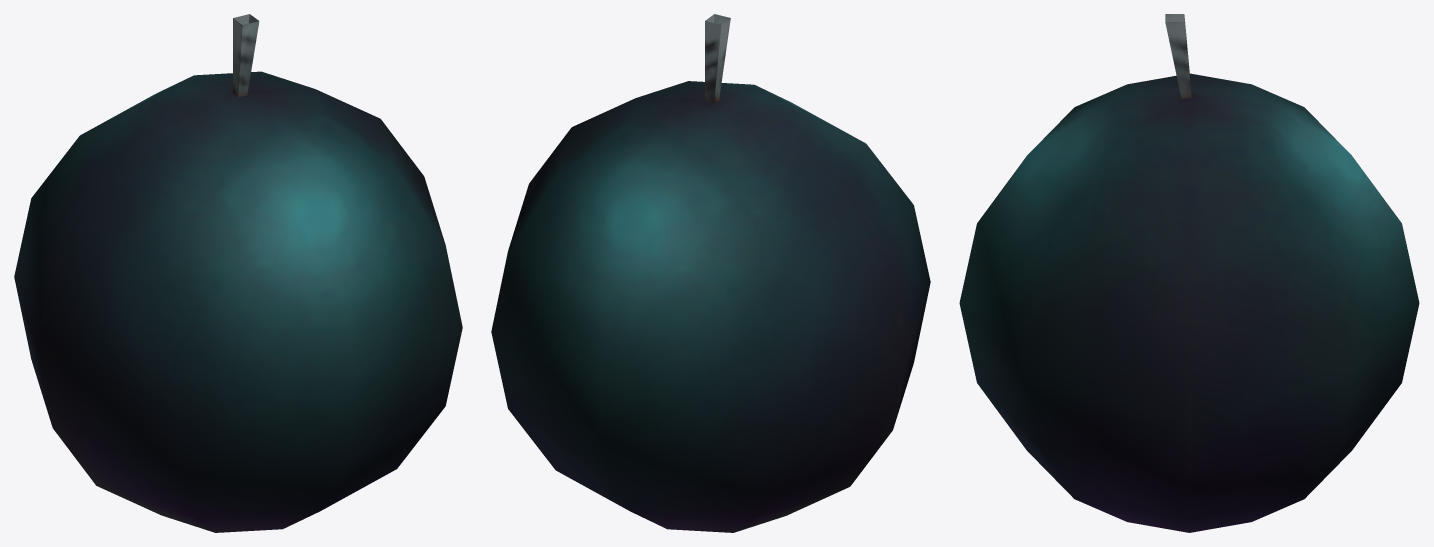
Rendered from zhadan.FBX.
3 views of the same model, side by side, from view 1: azimuth 30°, elevation 25°; view 2: azimuth 150°, elevation 25°; view 3: azimuth 270°, elevation 25° (orthographic). The views are drawn at different scales.
Visible parts, largest first — view 1: zhadan_L; view 2: zhadan_L; view 3: zhadan_L.
Part boxes in pixels (<box>): zhadan_L: <box>14,14,462,532</box>; zhadan_L: <box>491,14,930,532</box>; zhadan_L: <box>959,14,1419,532</box>.
Bounding box in the file's own units: 38.58 × 45.69 × 38.58.
